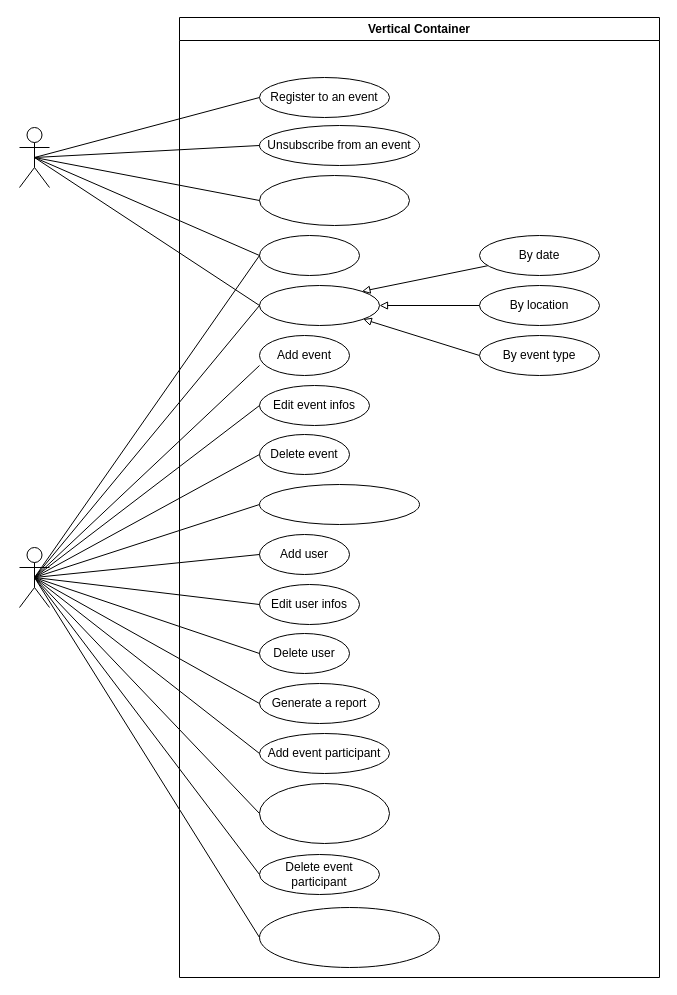
The diagram is 677 pixels wide and 995 high, and some of its shapes have lost their labels. The shapes that lost their labels are listed below. From the top down, each one's box as (x1, y1, x2, y2) in pixels, then its label:
(18, 126, 50, 188): User
(258, 174, 410, 226): View user's own registerations
(258, 234, 360, 276): View events
(258, 284, 380, 326): Search for events
(258, 484, 420, 524): View event paticipants list
(18, 546, 50, 608): Admin
(258, 782, 390, 844): Edit event participant infos
(258, 906, 440, 968): View events which a participant is registered to
